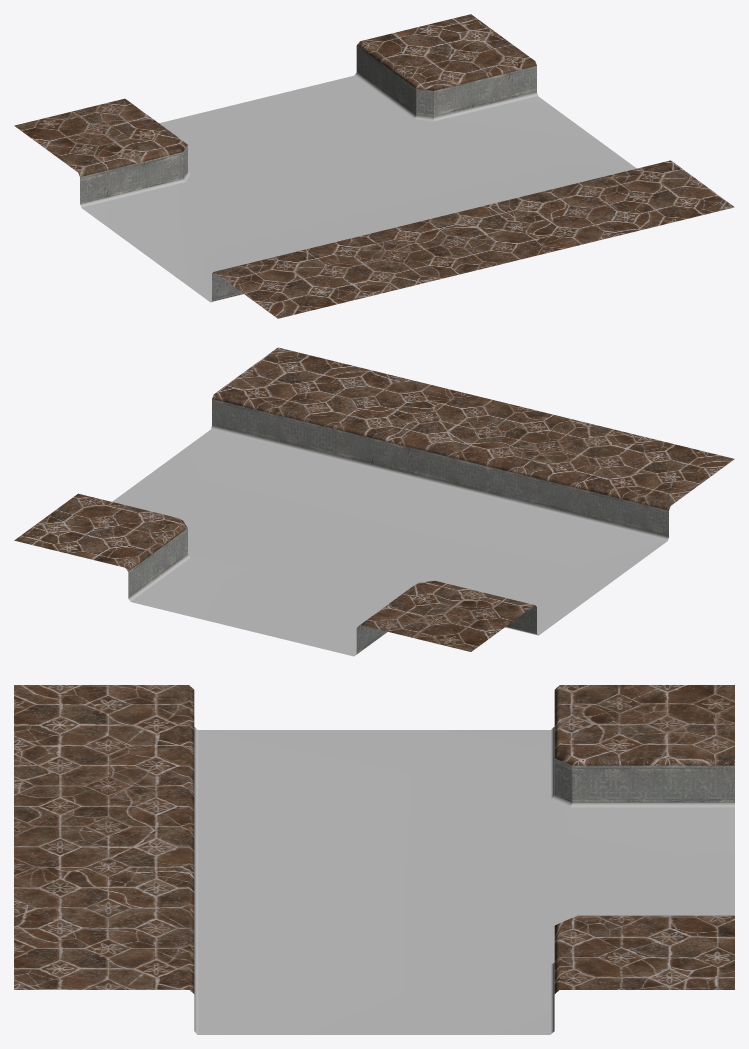
File: FBX_Floor_Sunk_T.fbx
3 renders of one model, top to bottom at view 1: azimuth 30°, elevation 25°; view 2: azimuth 150°, elevation 25°; view 3: azimuth 270°, elevation 25°, orthographic. The views are drawn at different scales.
Visible parts, largest first — view 1: Floor_Sunk_T; view 2: Floor_Sunk_T; view 3: Floor_Sunk_T.
Part boxes in pixels (bbox=[...]): Floor_Sunk_T: bbox=[14, 14, 734, 318]; Floor_Sunk_T: bbox=[14, 347, 734, 656]; Floor_Sunk_T: bbox=[14, 685, 734, 1034].
Bounding box in the file's own units: 1000 × 68.92 × 1000.
Materials: 3 (2 with a texture image).
